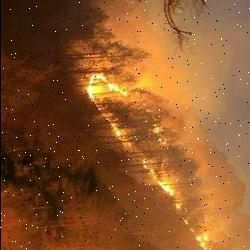fire: (137, 158, 213, 250), (81, 67, 135, 130)
